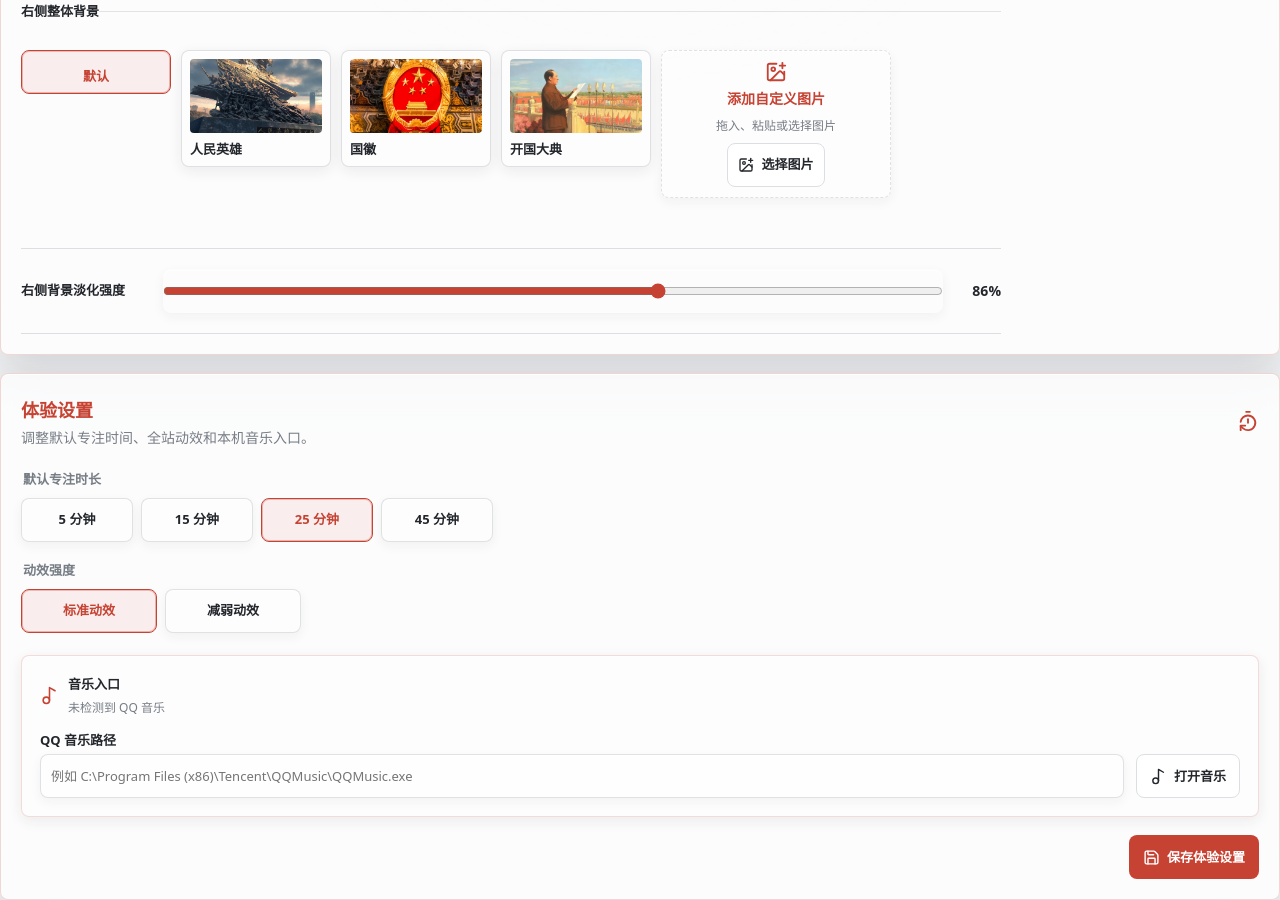
Test: 体验设置 › 读取并保存默认专注时长
(page scrolled)
Expected: the heading "体验设置" is shown, [21, 398, 93, 422]
Expected: the radio button labelled "25 分钟" is checked, [261, 498, 373, 542]
Click the radio button labelled "45 分钟". click: (437, 520)
box: [381, 498, 493, 542]
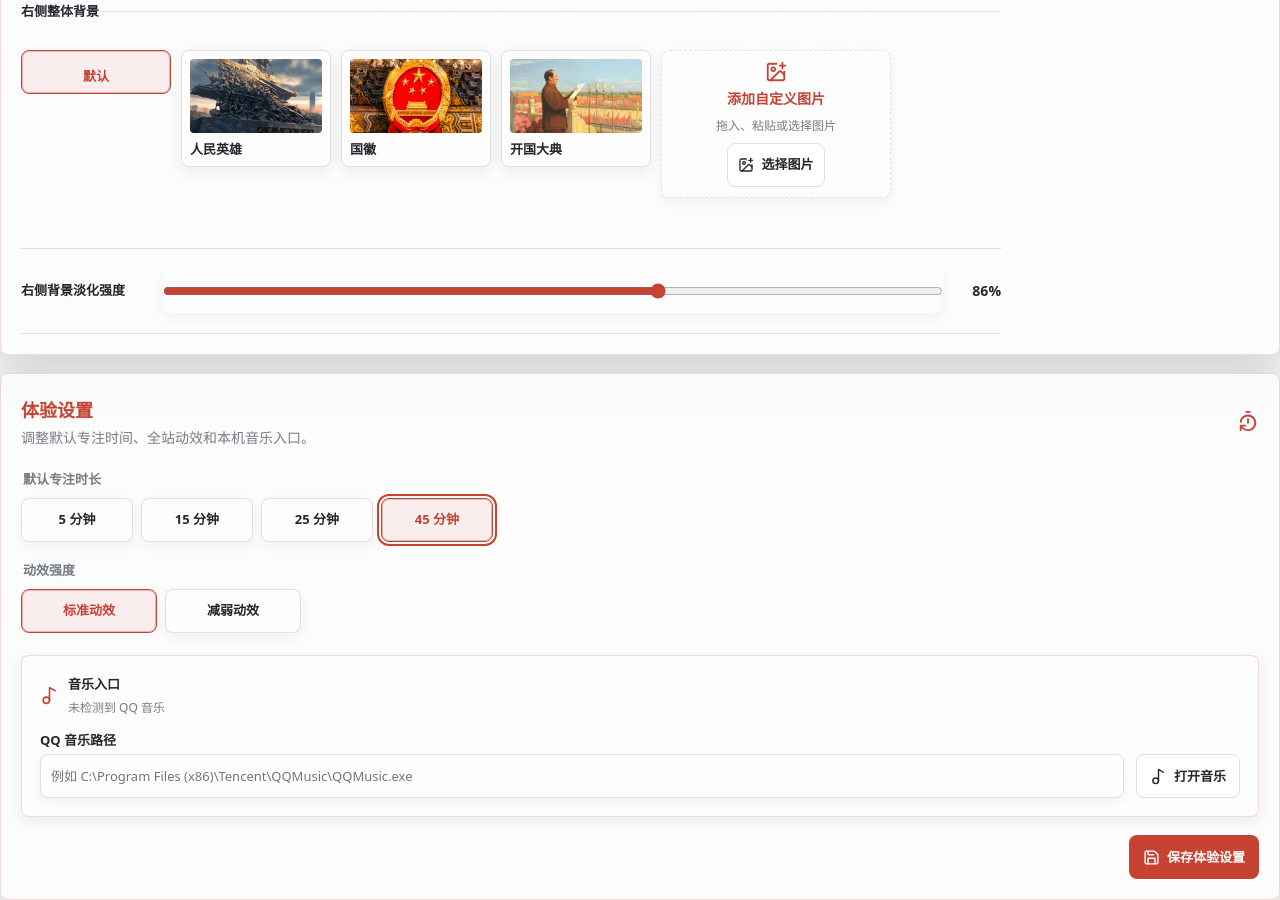
Click the radio button labelled "减弱动效". click: (233, 610)
box: [165, 588, 301, 632]
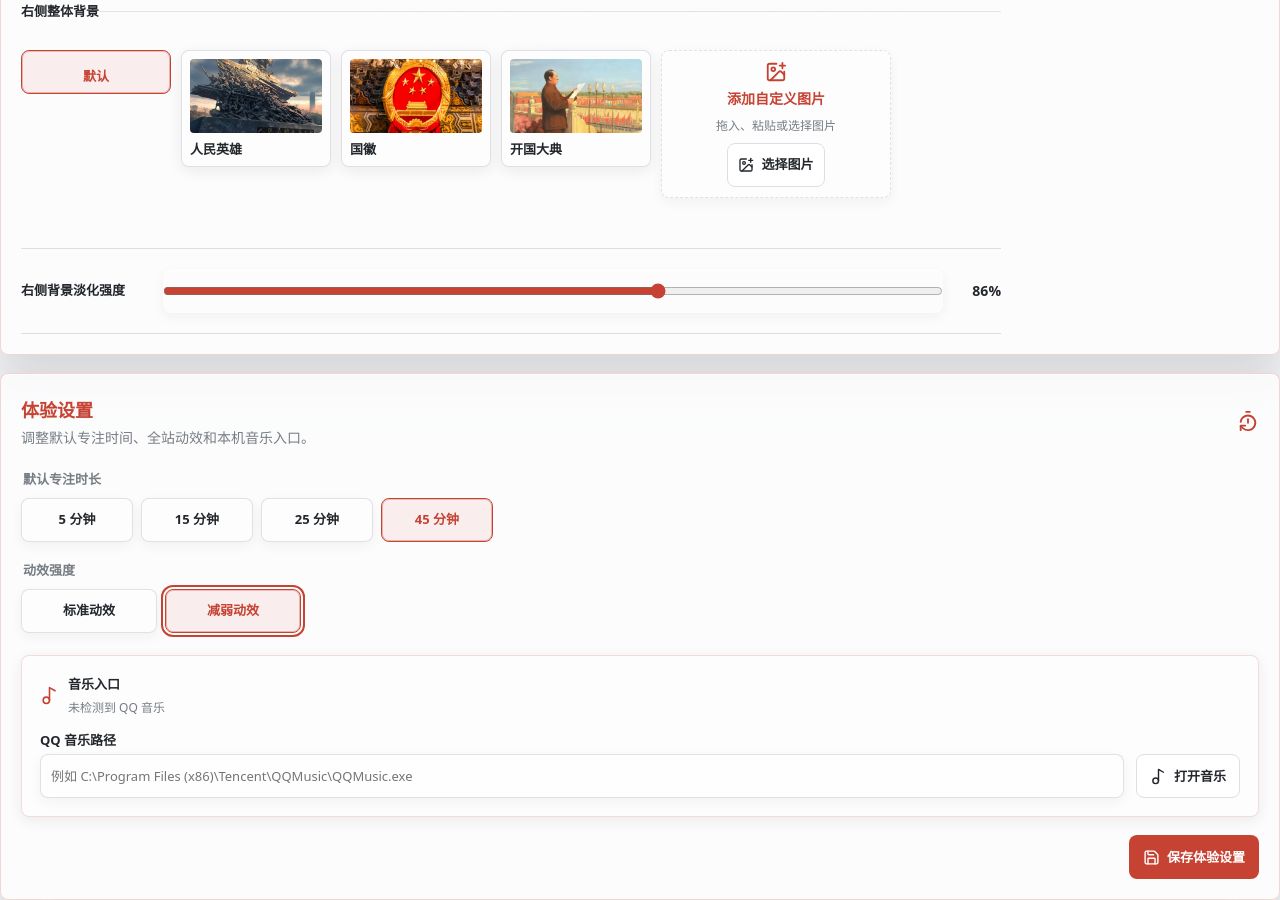
Click the button "保存体验设置". click: (1194, 857)
box: [1129, 835, 1259, 879]
(page scrolled)
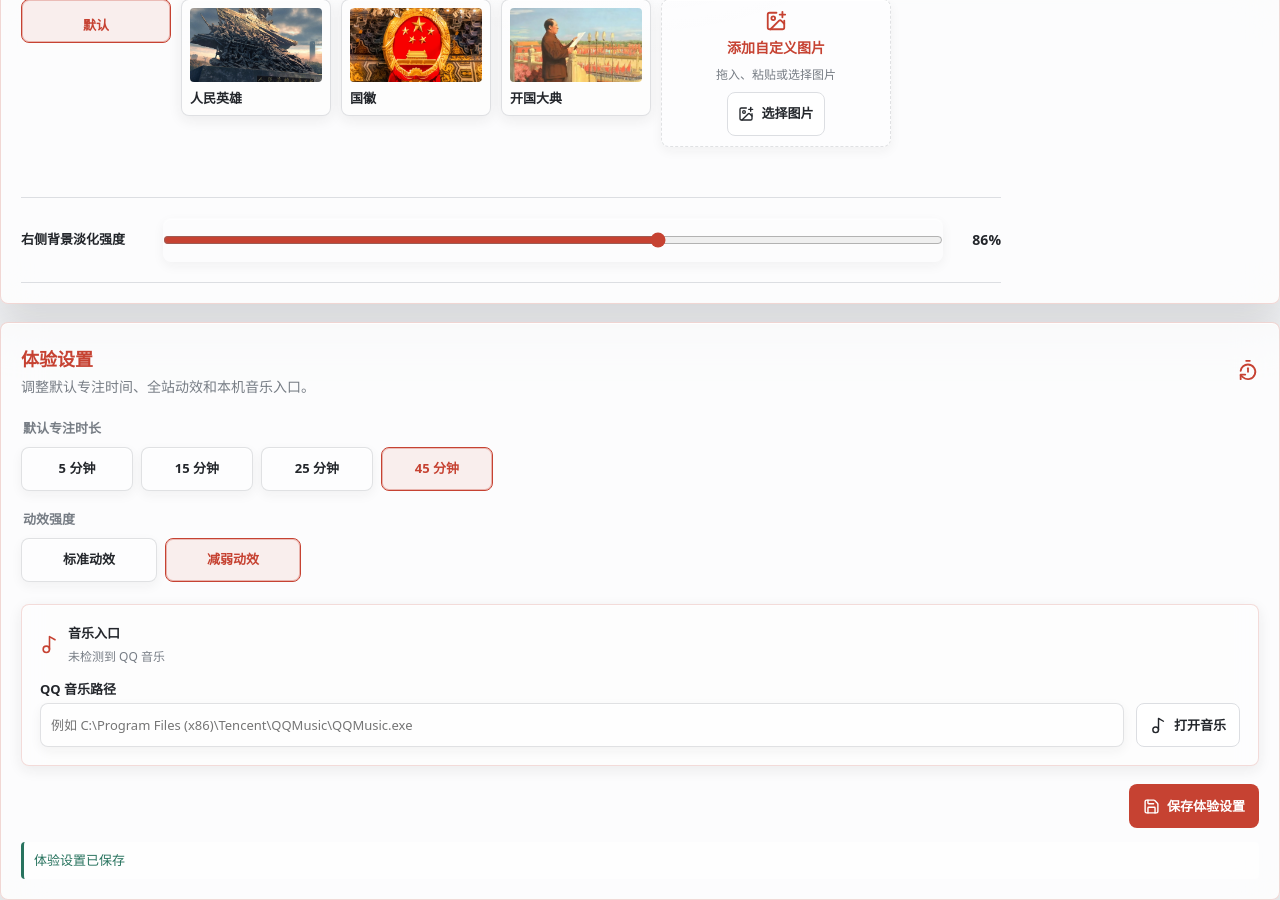
Now the message reads "体验设置已保存", box [34, 851, 125, 869]
